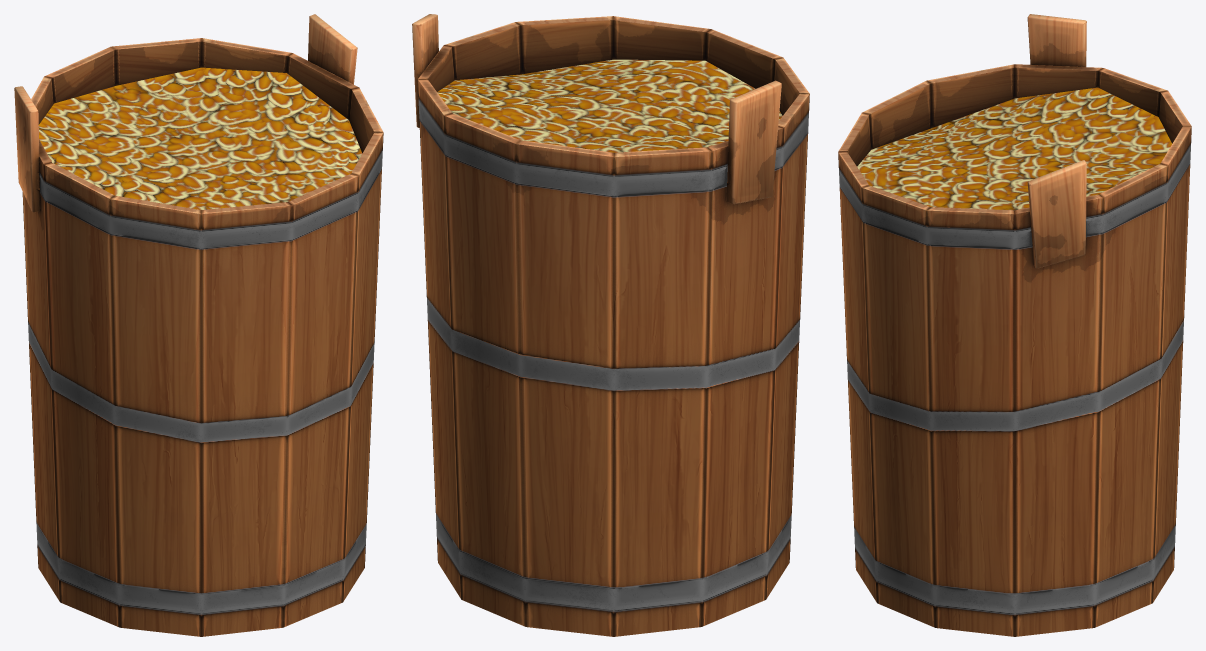
Rendered from BarrelWooden02_1.FBX.
3 views of the same model, side by side, from view 1: azimuth 30°, elevation 25°; view 2: azimuth 150°, elevation 25°; view 3: azimuth 270°, elevation 25° (orthographic). The views are drawn at different scales.
Parts seen in each view (by area): view 1: BarrelWooden02_1; view 2: BarrelWooden02_1; view 3: BarrelWooden02_1.
Part boxes in pixels (x1,y1,x2,y2): BarrelWooden02_1: [14, 14, 383, 636]; BarrelWooden02_1: [412, 14, 809, 636]; BarrelWooden02_1: [838, 14, 1191, 636].
Size of what is drawn, in the model's own units: 0.7498 by 1.07 by 0.7188.
